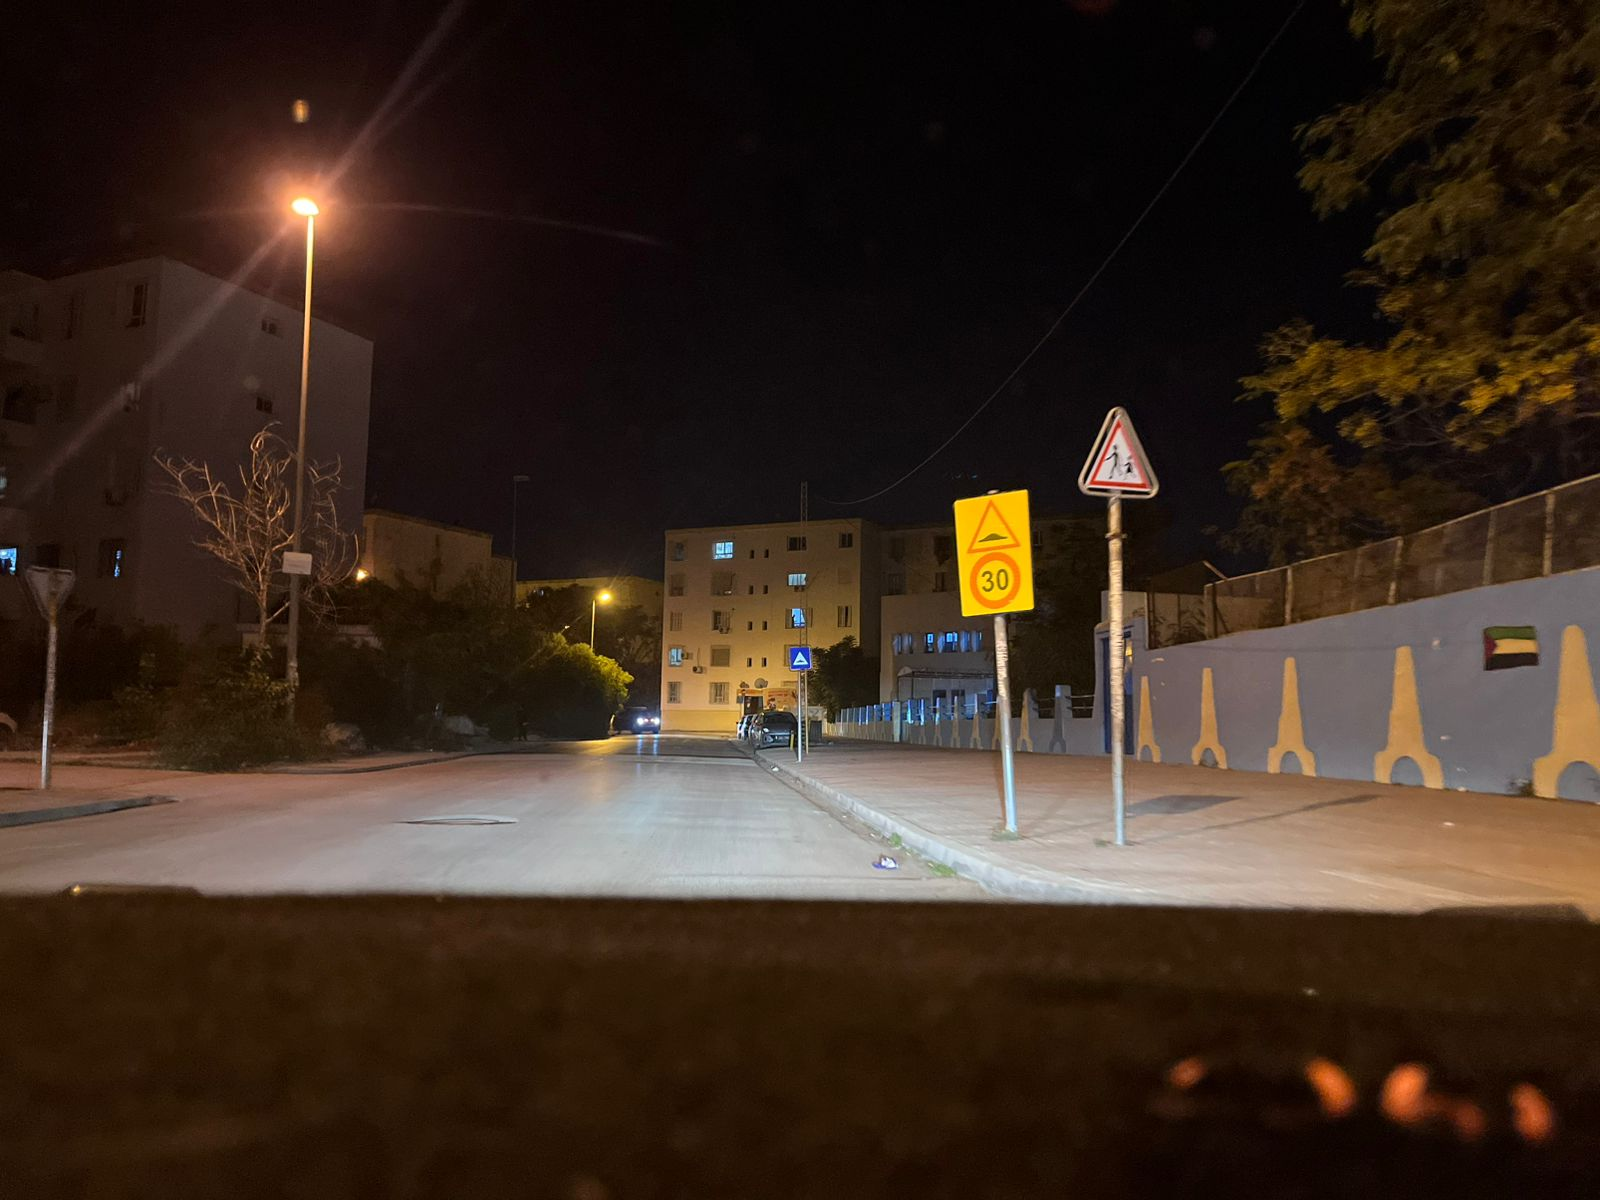SpeedLimit30: (954, 488, 1034, 618)
